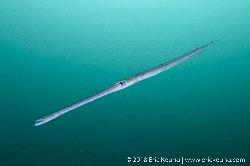Fistularia commersonii: (32, 34, 226, 128)
